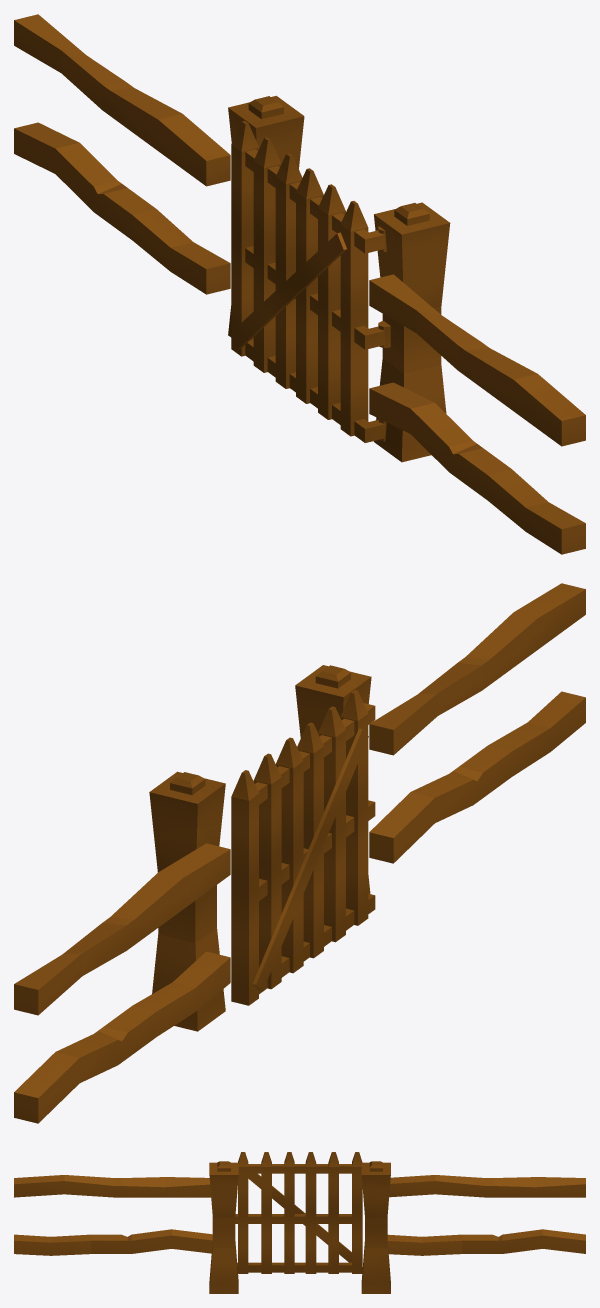
File: fence gate.fbx
3 renders of one model, top to bottom at view 1: azimuth 30°, elevation 25°; view 2: azimuth 150°, elevation 25°; view 3: azimuth 270°, elevation 25°, orthographic. The views are drawn at different scales.
Parts seen in each view (by area): view 1: Fence_Gate EXP; view 2: Fence_Gate EXP; view 3: Fence_Gate EXP.
Part boxes in pixels (<box>): Fence_Gate EXP: <box>14,14,585,554</box>; Fence_Gate EXP: <box>14,583,585,1123</box>; Fence_Gate EXP: <box>14,1152,585,1293</box>.
Size of the model in its own units: 35.04 by 105 by 436.
1 material, 1 textured.
